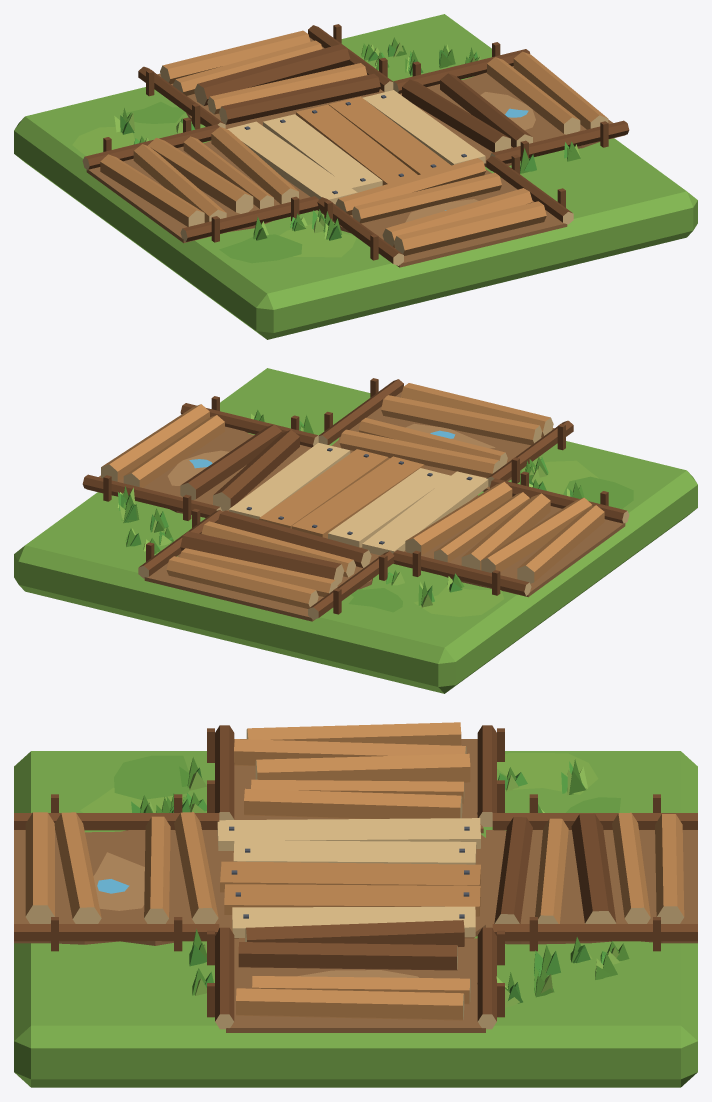
The model's file is road_l2_b.fbx.
The picture shows the model from 3 angles, top to bottom: view 1: azimuth 30°, elevation 25°; view 2: azimuth 150°, elevation 25°; view 3: azimuth 270°, elevation 25°; orthographic projection. The views are drawn at different scales.
Visible parts, largest first — view 1: road_l2_b, Road_YPlus, Road_XPlus, Road_YMinus, Road_XMinus; view 2: road_l2_b, Road_YMinus, Road_XPlus, Road_YPlus, Road_XMinus; view 3: road_l2_b, Road_XMinus, Road_XPlus, Road_YMinus, Road_YPlus.
Part boxes in pixels (left/top/right/bottom): road_l2_b: left=14, top=14, right=697, bottom=339; Road_YPlus: left=312, top=155, right=573, bottom=267; Road_XPlus: left=82, top=117, right=318, bottom=243; Road_YMinus: left=138, top=24, right=393, bottom=133; Road_XMinus: left=393, top=42, right=629, bottom=173; road_l2_b: left=14, top=368, right=697, bottom=693; Road_YMinus: left=138, top=509, right=404, bottom=621; Road_XPlus: left=393, top=471, right=629, bottom=597; Road_YPlus: left=318, top=378, right=573, bottom=491; Road_XMinus: left=82, top=396, right=318, bottom=520; road_l2_b: left=14, top=751, right=697, bottom=1087; Road_XMinus: left=189, top=920, right=522, bottom=1032; Road_XPlus: left=179, top=722, right=527, bottom=833; Road_YMinus: left=486, top=794, right=697, bottom=964; Road_YPlus: left=14, top=793, right=225, bottom=951.
Bounding box in the file's own units: 1 × 0.151 × 1.
